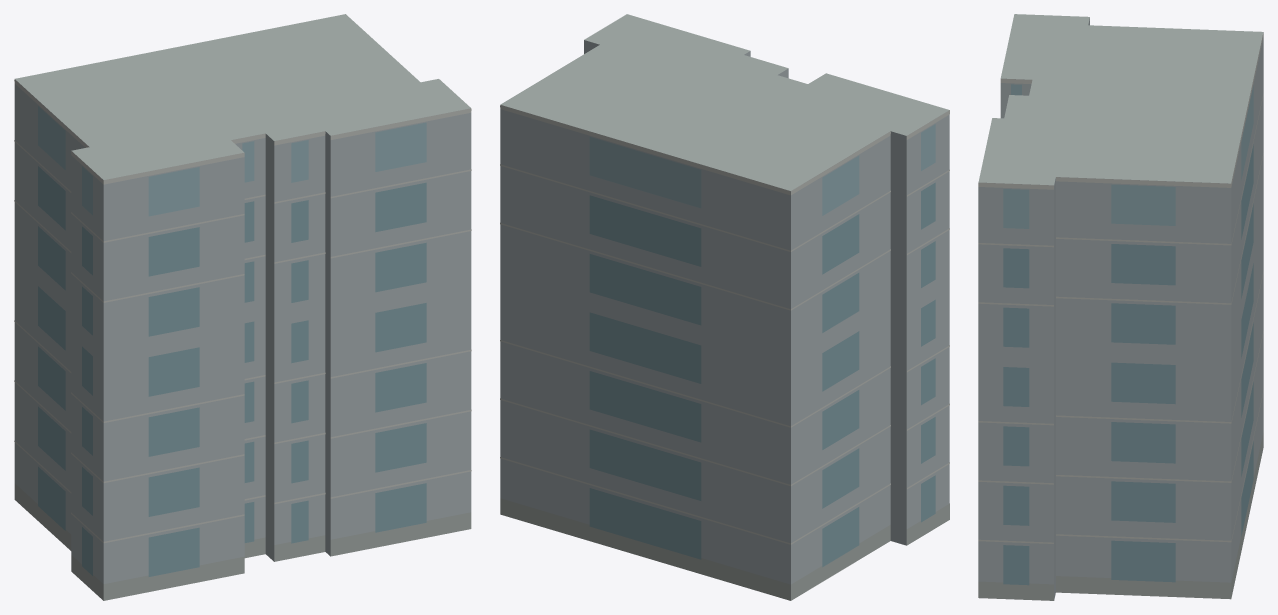
File: survey-upis-32633102.glb
3 renders of one model, left to right at view 1: azimuth 30°, elevation 25°; view 2: azimuth 150°, elevation 25°; view 3: azimuth 270°, elevation 25°, orthographic. The views are drawn at different scales.
Visible parts, largest first — view 1: survey-upis-32633102.tmp; view 2: survey-upis-32633102.tmp; view 3: survey-upis-32633102.tmp.
Boxes of the visible parts, x1=… form: survey-upis-32633102.tmp: x1=14, y1=14, x2=471, y2=600; survey-upis-32633102.tmp: x1=500, y1=14, x2=949, y2=600; survey-upis-32633102.tmp: x1=978, y1=14, x2=1263, y2=600.
Bounding box in the file's own units: 20.36 × 23 × 14.33.
